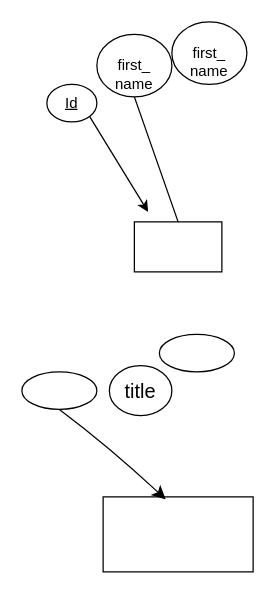
Image size: 275x594. Some labels were removed from this diagram. Here are the shapes that lost their labels. From the top down, the box of each, then its label:
(158, 333, 234, 372): discription
(21, 371, 97, 409): cid
